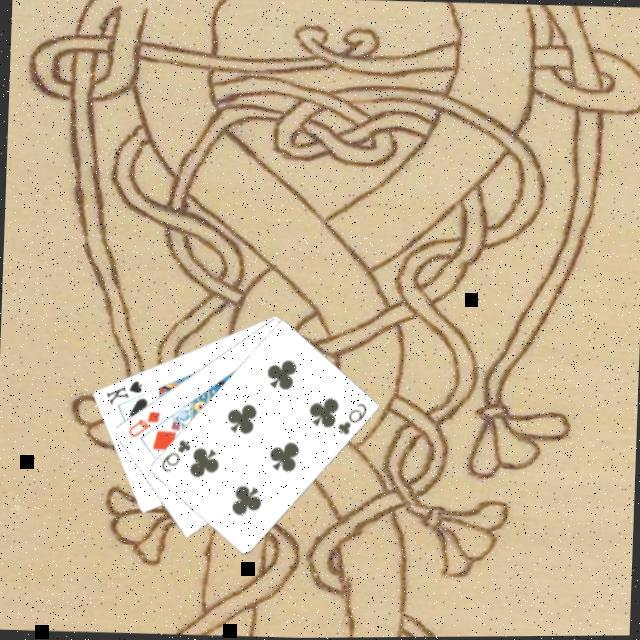6C: (157, 433, 194, 473), (334, 397, 369, 436)
KS: (103, 374, 146, 406)
QD: (125, 405, 164, 439)
